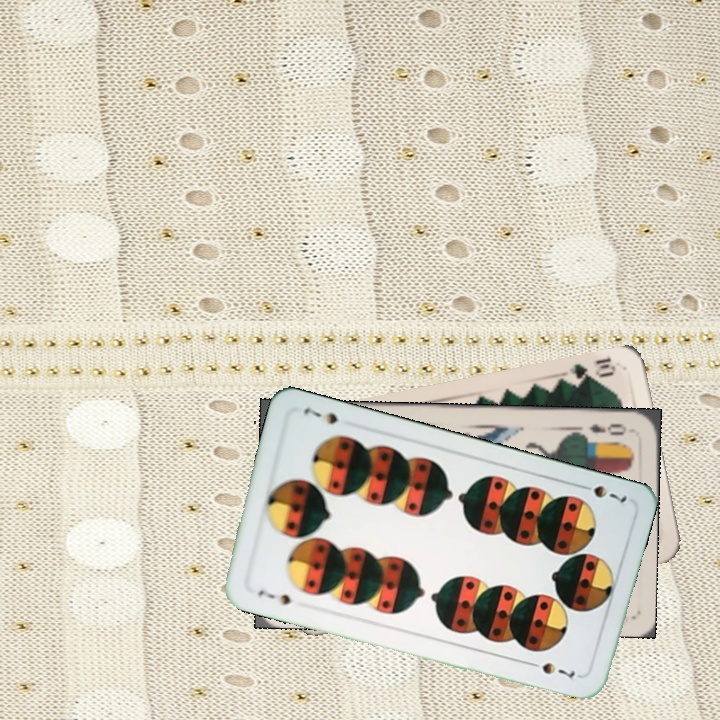EO: (585, 419, 629, 438)
G10: (562, 354, 619, 388)
S7: (573, 479, 630, 506), (253, 585, 293, 608)
